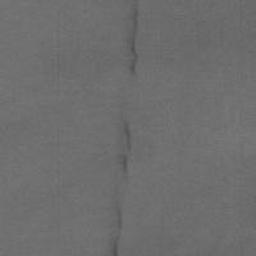Inclusion: (124, 6, 142, 78), (114, 116, 134, 180), (110, 207, 123, 256)
